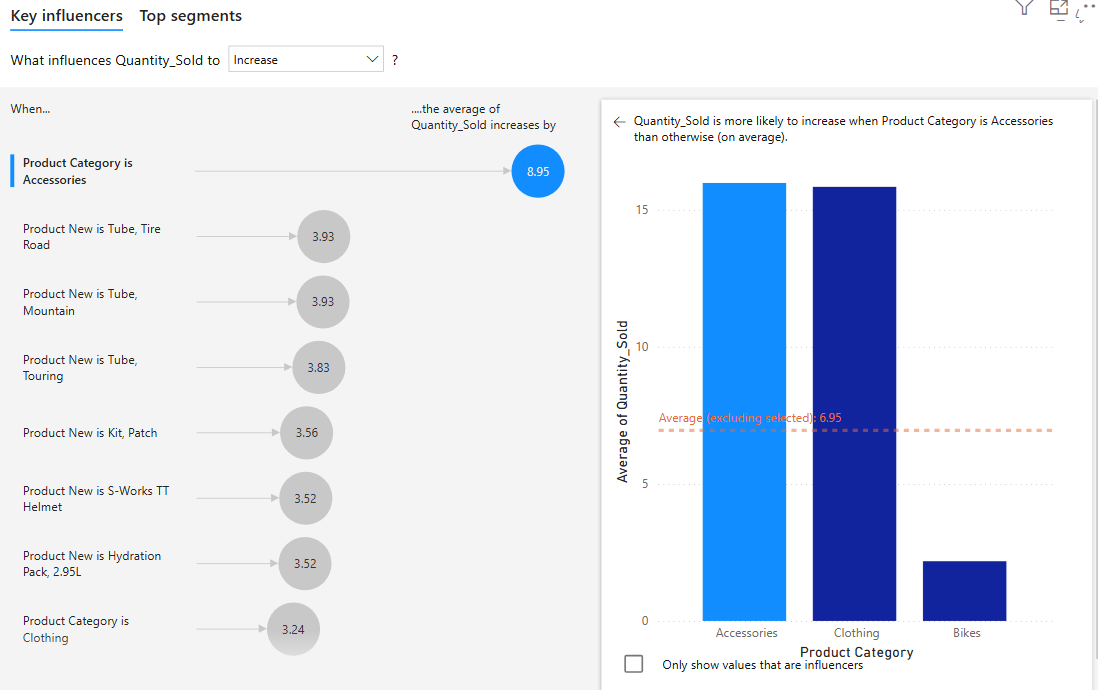

The page's visual inventory and layout, read from the dashboard file:
{"tool":"powerbi","page":{"name":"Key Influencer","canvas":[1280,720],"ordinal":2},"visuals":[{"type":"keyDriversVisual","fields":{"Target":["Maven Cycles Sales.Quantity_Sold"],"ExplainBy":["Maven Cycles Product Categories.Product Category","Maven Cycles Products.Product New"]},"box":[10,0,1091.7,643.3],"z":0}]}

Visuals, with their boxes on the page's 1280x720 design canvas (x1, y1, x2, y2). These are canvas units, not pixel positions in the 1098x690 screenshot, which may show the page scaled, cropped or inside an application window:
keyDriversVisual - Maven Cycles Sales.Quantity_Sold x Maven Cycles Product Categories.Product Category: bbox(10, 0, 1102, 643)
